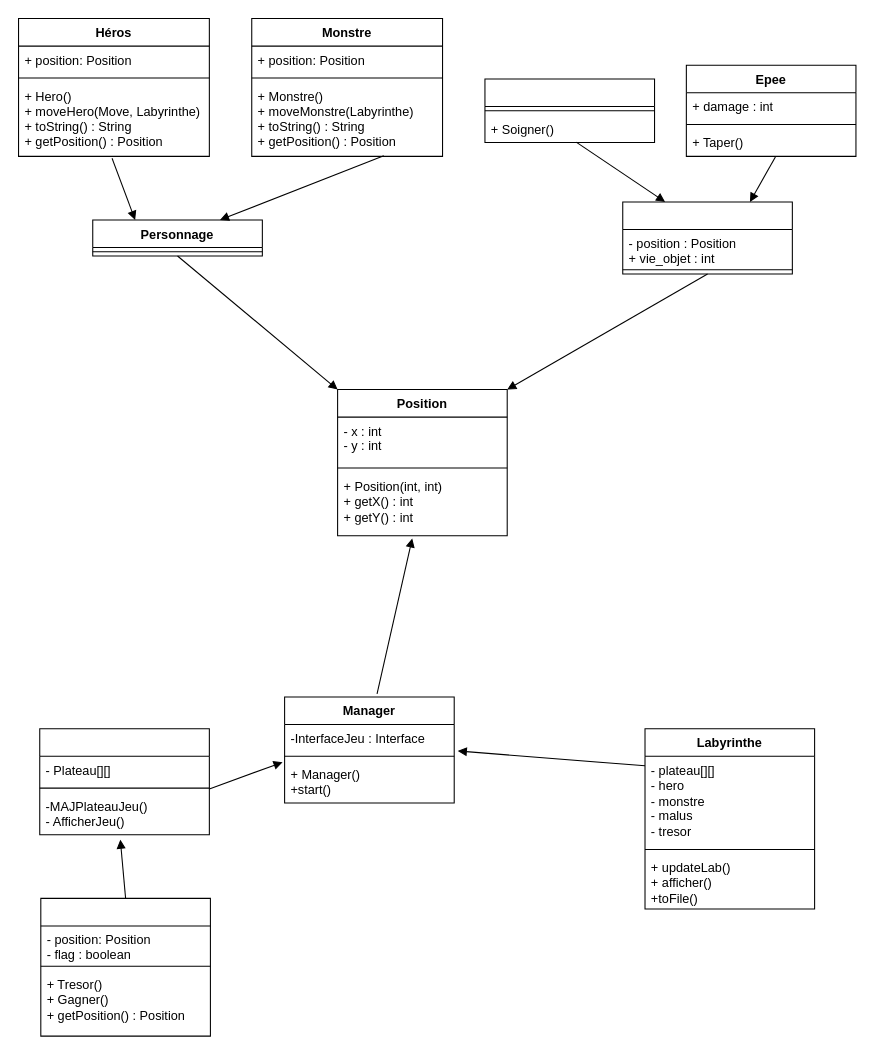
The diagram is 874 pixels wide and 1058 high, and some of its shapes have lost their labels. The shapes that lost their labels are listed below. From the top down, each one's box as (x1, y1, x2, y2) in pixels, then its label:
(484, 78, 655, 143): Soins
(622, 201, 792, 274): Objets
(39, 728, 209, 835): Interface
(40, 897, 210, 1036): Trésor
